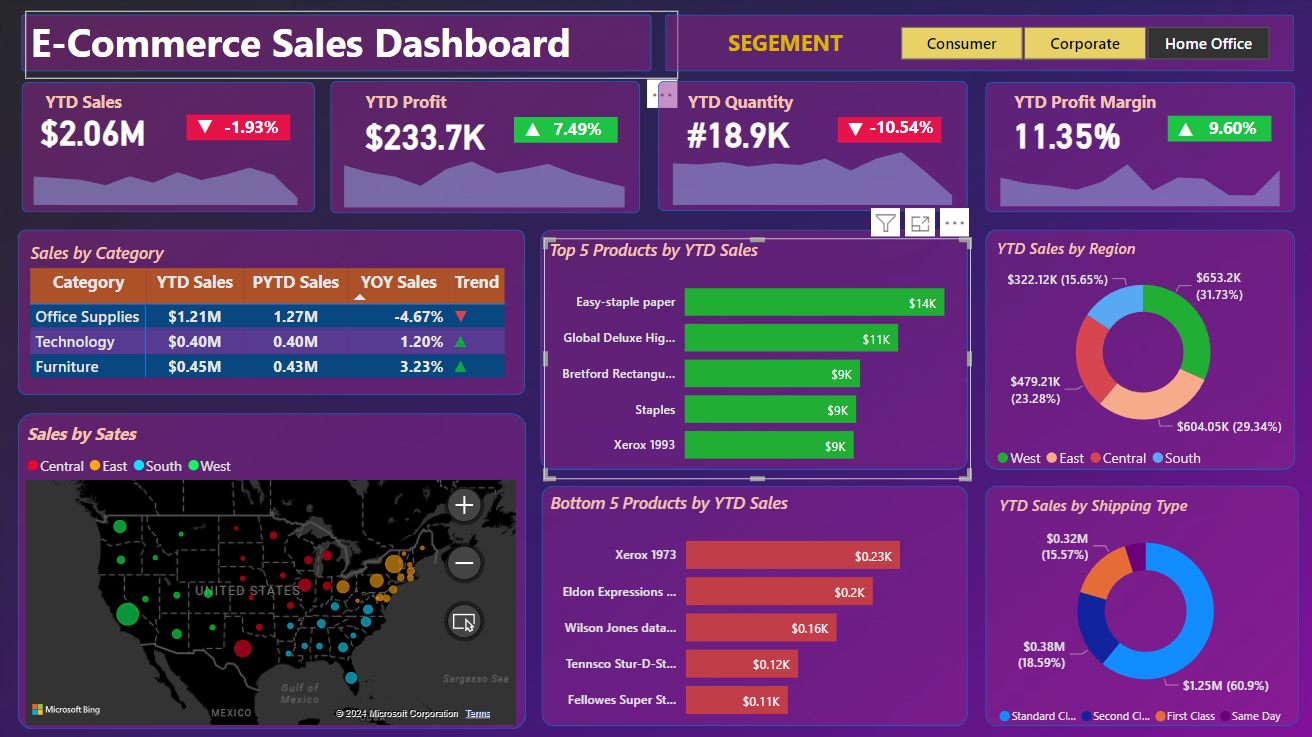

This screenshot's page, from the dashboard's own definition file:
{"tool":"powerbi","page":{"name":"Page 1","canvas":[1280,720],"ordinal":0},"visuals":[{"type":"shape","box":[26.9,17.1,607.9,54.9],"z":0},{"type":"textbox","box":[30.5,13.4,628.7,64.7],"z":1000},{"type":"shape","box":[26,81.8,283.1,126],"z":2000},{"type":"card","fields":{"Values":["ecommerce_data.YTD Sales"]},"box":[30.5,102.5,130.6,53.7],"z":3000},{"type":"areaChart","fields":{"Category":["Calendar.Month"],"Y":["Sum(ecommerce_data.sales_per_order)"]},"box":[24.4,135.5,283.2,70.8],"z":4000},{"type":"shape","box":[186,114,100,24.4],"z":5000},{"type":"card","fields":{"Values":["ecommerce_data.YOY Sales"]},"box":[209.3,114,76.7,28],"z":6000},{"type":"card","fields":{"Values":["ecommerce_data.Sales Icon"]},"box":[164.8,112.3,76.9,29.3],"z":7000},{"type":"textbox","box":[45.2,84.2,101.3,31.7],"z":8000},{"type":"shape","box":[640.9,80.6,299.1,125.7],"z":9000},{"type":"card","fields":{"Values":["ecommerce_data.YTD Concatenated Qty"]},"box":[648.2,105,141.6,52.5],"z":10000},{"type":"areaChart","fields":{"Category":["Calendar.Month"],"Y":["Sum(ecommerce_data.order_quantity)"]},"box":[640.9,135.5,299.1,70.8],"z":11000},{"type":"shape","box":[814.3,115.3,100,24.4],"z":12000},{"type":"card","fields":{"Values":["ecommerce_data.YOY Qty"]},"box":[837.4,113.5,76.9,28.1],"z":13000},{"type":"card","fields":{"Values":["ecommerce_data.Qty Icon"]},"box":[793.4,114.7,75.7,29.3],"z":14000},{"type":"textbox","box":[664.5,84.4,129,31.4],"z":15000},{"type":"shape","box":[955.8,81.8,299.1,125.7],"z":16000},{"type":"areaChart","fields":{"Category":["Calendar.Month"],"Y":["ecommerce_data.Profit Margin"]},"box":[955.8,136.7,299.1,70.8],"z":17000},{"type":"shape","box":[1132.8,114.7,100.1,24.4],"z":18000},{"type":"card","fields":{"Values":["ecommerce_data.YOY Profit Margin"]},"box":[1156,114.7,76.9,26.9],"z":19000},{"type":"card","fields":{"Values":["ecommerce_data.Profit Margin Icon"]},"box":[1112,114.7,75.7,29.3],"z":20000},{"type":"textbox","box":[979,84.2,167.2,31.7],"z":21000},{"type":"card","fields":{"Values":["ecommerce_data.YTD Profit Margin"]},"box":[964.3,105,140.4,53.7],"z":22000},{"type":"shape","box":[23.2,224.6,489.5,159.9],"z":23000},{"type":"shape","box":[324.7,80.6,299.1,128.2],"z":24000},{"type":"card","fields":{"Values":["ecommerce_data.YTD Profit"]},"box":[334.5,106.2,163.6,53.7],"z":25000},{"type":"areaChart","fields":{"Category":["Calendar.Month"],"Y":["Sum(ecommerce_data.profit_per_order)"]},"box":[323.5,137.9,300.3,70.8],"z":26000},{"type":"shape","box":[501.8,116.4,100,24.4],"z":27000},{"type":"card","fields":{"Values":["ecommerce_data.YOY Profit"]},"box":[525,116.4,76.7,27.9],"z":28000},{"type":"card","fields":{"Values":["ecommerce_data.Profit Icon"]},"box":[480.7,114.7,76.9,29.3],"z":29000},{"type":"textbox","box":[352.8,84.2,101.3,34.2],"z":30000},{"type":"pivotTable","title":"Sales by Category","fields":{"Rows":["ecommerce_data.category_name"],"Values":["ecommerce_data.YTD Sales","ecommerce_data.PYTD Sales","ecommerce_data.YOY Sales","ecommerce_data.Sales Icon"]},"box":[30.5,235.6,484.6,148.9],"z":31000},{"type":"shape","box":[23.2,401.6,490.7,305.2],"z":32000},{"type":"map","title":"Sales by Sates","fields":{"Y":["us_state_long_lat_codes.latitude"],"X":["us_state_long_lat_codes.longitude"],"Size":["ecommerce_data.YTD Sales"],"Series":["ecommerce_data.customer_region"]},"box":[26.9,410.1,482.2,296.6],"z":33000},{"type":"shape","box":[527.3,224.6,412.6,231.9],"z":34000},{"type":"shape","box":[528.6,471.2,411.4,231.9],"z":35000},{"type":"barChart","title":"Top 5 Products by YTD Sales","fields":{"Category":["ecommerce_data.product_name"],"Y":["ecommerce_data.YTD Sales"]},"box":[530.6,232.6,411.4,232.6],"z":36000},{"type":"barChart","title":"Bottom 5 Products by YTD Sales","fields":{"Category":["ecommerce_data.product_name"],"Y":["ecommerce_data.YTD Sales"]},"box":[532,476.8,411.4,235.5],"z":37000},{"type":"shape","box":[955.8,224.6,299.1,231.9],"z":38000},{"type":"shape","box":[648.2,17.1,606.7,54.9],"z":39000},{"type":"shape","box":[955.8,471.2,302.7,231.9],"z":40000},{"type":"donutChart","title":"YTD Sales by Region","fields":{"Y":["ecommerce_data.YTD Sales"],"Category":["ecommerce_data.customer_region"]},"box":[961.9,231.9,293,231.9],"z":41000},{"type":"donutChart","title":"YTD Sales by Shipping Type","fields":{"Y":["ecommerce_data.YTD Sales"],"Category":["ecommerce_data.shipping_type"]},"box":[964.3,479.7,293,231.9],"z":42000},{"type":"slicer","fields":{"Values":["ecommerce_data.customer_segment"]},"box":[849.6,22,405.3,45.2],"z":43000},{"type":"textbox","box":[703.1,24.4,146.5,47.6],"z":44000}]}

Visuals, with their boxes in screenshot pixels (x1, y1, x2, y2), scaled from the page's 1280x720 canvas onto the 1312x737 screenshot:
shape: pyautogui.locateOnScreen(28, 18, 651, 74)
textbox: pyautogui.locateOnScreen(31, 14, 676, 80)
shape: pyautogui.locateOnScreen(27, 84, 317, 213)
card - ecommerce_data.YTD Sales: pyautogui.locateOnScreen(31, 105, 165, 160)
areaChart - Calendar.Month x Sum(ecommerce_data.sales_per_order): pyautogui.locateOnScreen(25, 139, 315, 211)
shape: pyautogui.locateOnScreen(191, 117, 293, 142)
card - ecommerce_data.YOY Sales: pyautogui.locateOnScreen(215, 117, 293, 145)
card - ecommerce_data.Sales Icon: pyautogui.locateOnScreen(169, 115, 248, 145)
textbox: pyautogui.locateOnScreen(46, 86, 150, 119)
shape: pyautogui.locateOnScreen(657, 83, 963, 211)
card - ecommerce_data.YTD Concatenated Qty: pyautogui.locateOnScreen(664, 107, 810, 161)
areaChart - Calendar.Month x Sum(ecommerce_data.order_quantity): pyautogui.locateOnScreen(657, 139, 963, 211)
shape: pyautogui.locateOnScreen(835, 118, 937, 143)
card - ecommerce_data.YOY Qty: pyautogui.locateOnScreen(858, 116, 937, 145)
card - ecommerce_data.Qty Icon: pyautogui.locateOnScreen(813, 117, 891, 147)
textbox: pyautogui.locateOnScreen(681, 86, 813, 119)
shape: pyautogui.locateOnScreen(980, 84, 1286, 212)
areaChart - Calendar.Month x ecommerce_data.Profit Margin: pyautogui.locateOnScreen(980, 140, 1286, 212)
shape: pyautogui.locateOnScreen(1161, 117, 1264, 142)
card - ecommerce_data.YOY Profit Margin: pyautogui.locateOnScreen(1185, 117, 1264, 145)
card - ecommerce_data.Profit Margin Icon: pyautogui.locateOnScreen(1140, 117, 1217, 147)
textbox: pyautogui.locateOnScreen(1003, 86, 1175, 119)
card - ecommerce_data.YTD Profit Margin: pyautogui.locateOnScreen(988, 107, 1132, 162)
shape: pyautogui.locateOnScreen(24, 230, 526, 394)
shape: pyautogui.locateOnScreen(333, 83, 639, 214)
card - ecommerce_data.YTD Profit: pyautogui.locateOnScreen(343, 109, 511, 164)
areaChart - Calendar.Month x Sum(ecommerce_data.profit_per_order): pyautogui.locateOnScreen(332, 141, 639, 214)
shape: pyautogui.locateOnScreen(514, 119, 617, 144)
card - ecommerce_data.YOY Profit: pyautogui.locateOnScreen(538, 119, 617, 148)
card - ecommerce_data.Profit Icon: pyautogui.locateOnScreen(493, 117, 572, 147)
textbox: pyautogui.locateOnScreen(362, 86, 465, 121)
"Sales by Category" pivotTable: pyautogui.locateOnScreen(31, 241, 528, 394)
shape: pyautogui.locateOnScreen(24, 411, 527, 723)
"Sales by Sates" map: pyautogui.locateOnScreen(28, 420, 522, 723)
shape: pyautogui.locateOnScreen(540, 230, 963, 467)
shape: pyautogui.locateOnScreen(542, 482, 963, 720)
"Top 5 Products by YTD Sales" barChart: pyautogui.locateOnScreen(544, 238, 966, 476)
"Bottom 5 Products by YTD Sales" barChart: pyautogui.locateOnScreen(545, 488, 967, 729)
shape: pyautogui.locateOnScreen(980, 230, 1286, 467)
shape: pyautogui.locateOnScreen(664, 18, 1286, 74)
shape: pyautogui.locateOnScreen(980, 482, 1290, 720)
"YTD Sales by Region" donutChart: pyautogui.locateOnScreen(986, 237, 1286, 475)
"YTD Sales by Shipping Type" donutChart: pyautogui.locateOnScreen(988, 491, 1289, 728)
slicer - ecommerce_data.customer_segment: pyautogui.locateOnScreen(871, 23, 1286, 69)
textbox: pyautogui.locateOnScreen(721, 25, 871, 74)
